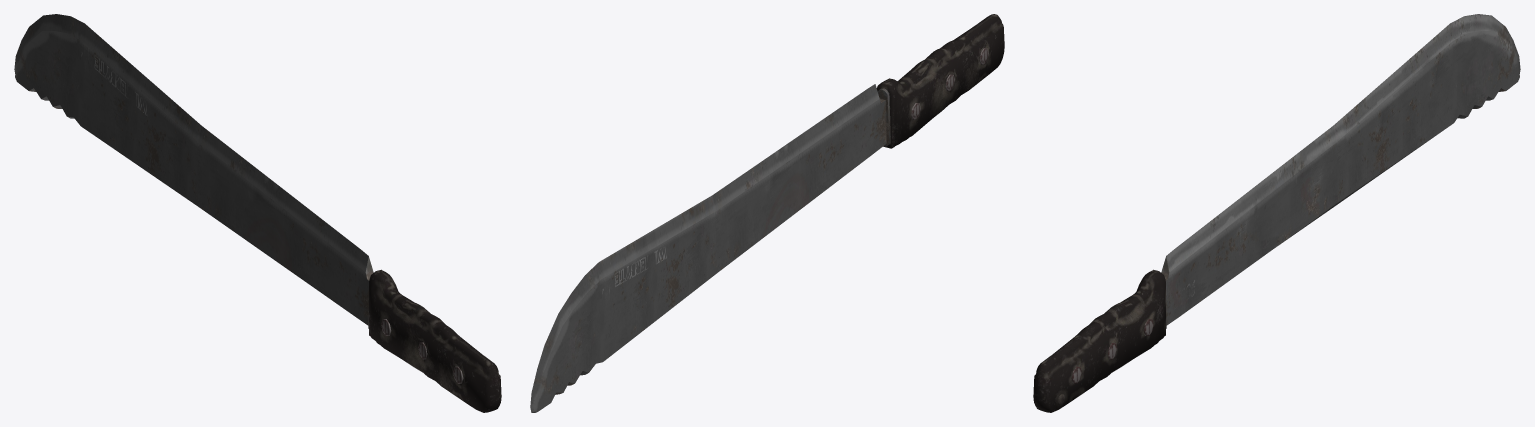
Rendered from machete.fbx.
The picture shows the model from 3 angles, left to right: view 1: azimuth 30°, elevation 25°; view 2: azimuth 150°, elevation 25°; view 3: azimuth 330°, elevation 25°; orthographic projection. The views are drawn at different scales.
Visible parts, largest first — view 1: Body; view 2: Body; view 3: Body.
Part boxes in pixels (x1=…): Body: x1=14, y1=14, x2=501, y2=412; Body: x1=530, y1=14, x2=1004, y2=412; Body: x1=1033, y1=14, x2=1520, y2=412.
Size of the model in its own units: 0.017 by 0.0675 by 0.55.
1 material, 1 textured.
